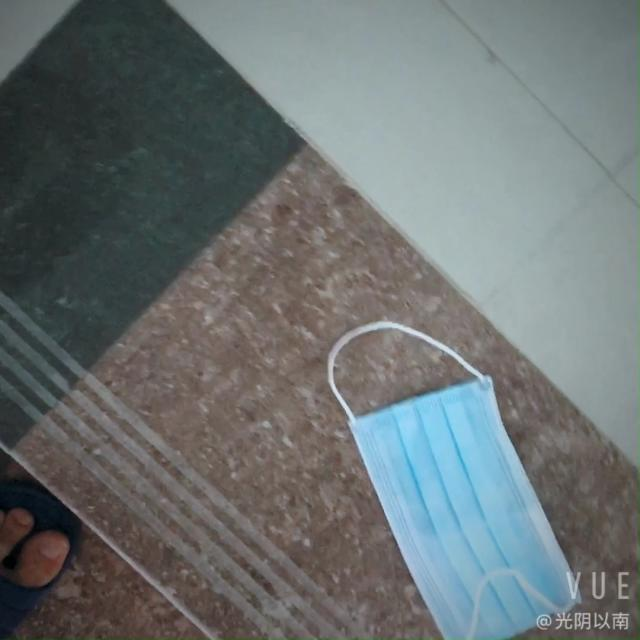non-organic waste: (358, 375, 586, 633)
